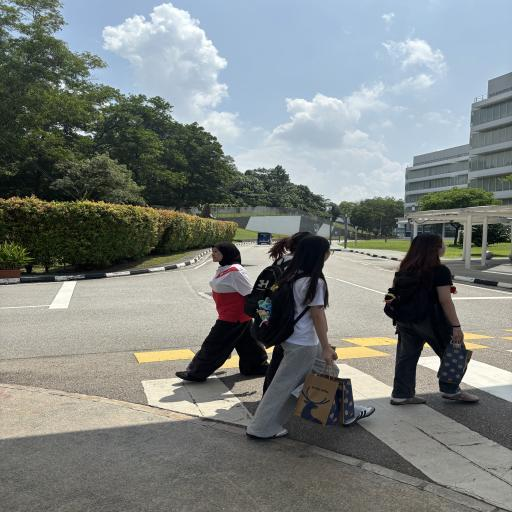person_left: (196, 244, 269, 384)
person_right: (278, 234, 350, 443), (390, 226, 466, 414)
